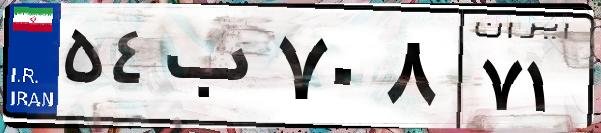0: (330, 28, 385, 110)
1: (525, 38, 570, 115)
4: (110, 28, 158, 98)
5: (57, 26, 110, 100)
7: (270, 28, 330, 110), (475, 38, 525, 113)
8: (385, 28, 445, 110)
ب: (158, 20, 270, 120)
